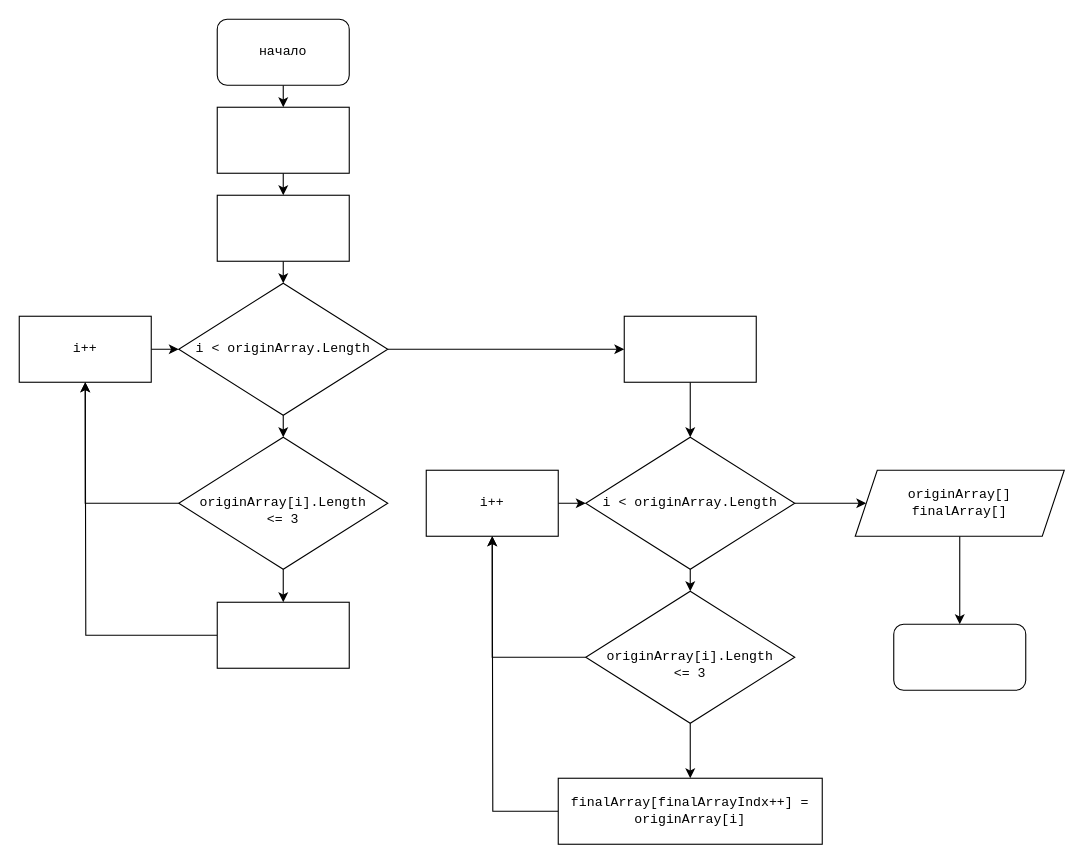
This 1084x864 diagram has some shape labels left out. The shapes that lost their labels are listed below. From the top down, each one's centre as x and y in pixels, then its label:
At pixel 282 139: "originArray[] finalArraySize finalArrayIndx".
At pixel 282 227: "i = 0".
At pixel 689 348: "finalArray[] i = 0".
At pixel 282 634: "finalArraySize++".
At pixel 959 656: "конец".
